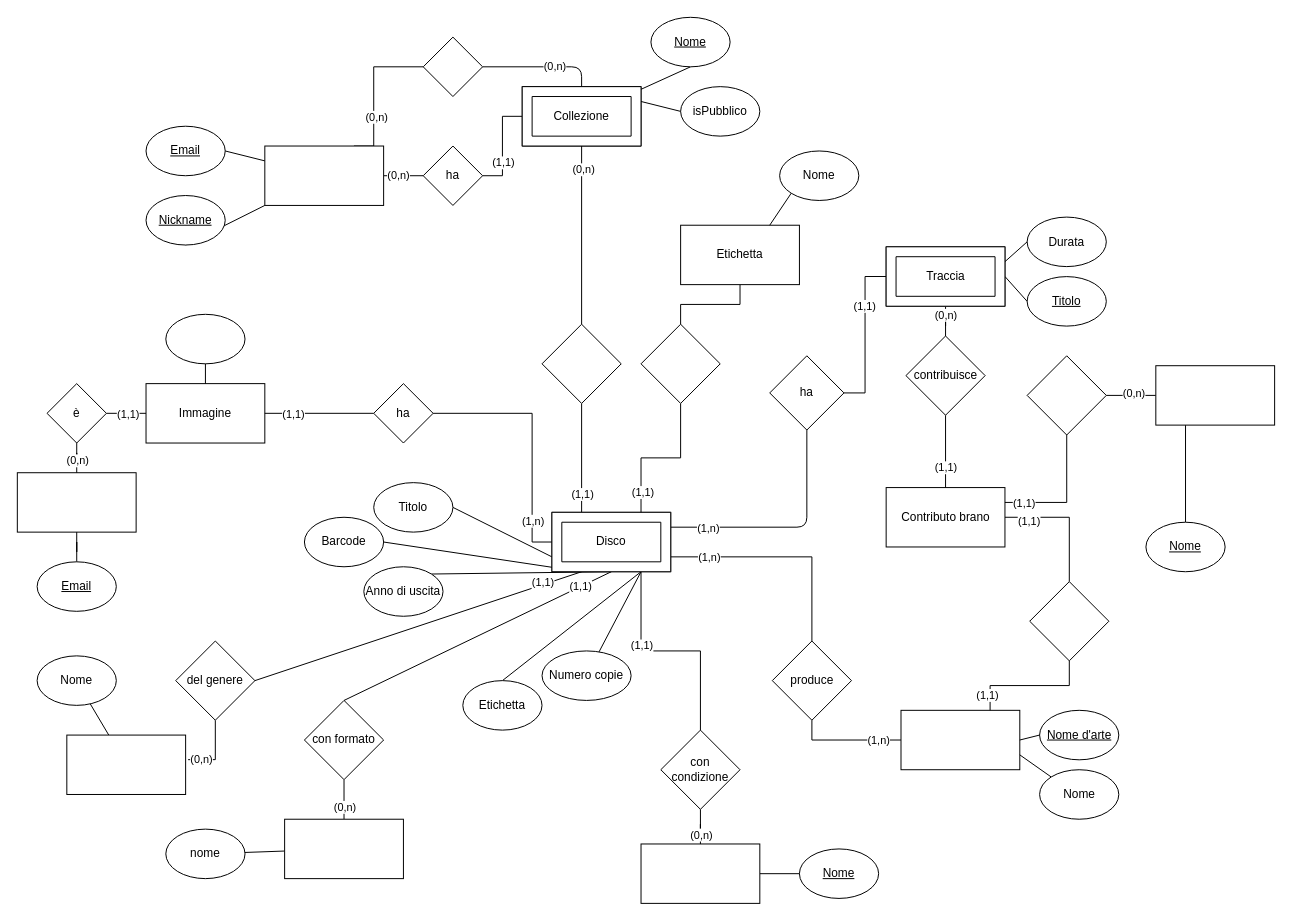
This 1292x921 diagram has some shape labels left out. Here are the shapes that lost their labels. From the top down, the box of each, then its label:
(422, 36, 483, 97): fa parte
(264, 145, 384, 205): Collezionista
(165, 313, 245, 364): File
(541, 323, 621, 403): contiene
(640, 323, 720, 403): distribuisce
(1026, 355, 1106, 435): tipo
(1155, 365, 1275, 425): Ruolo
(16, 472, 136, 532): Tipologia immagine
(1029, 581, 1109, 661): da parte
(900, 709, 1020, 770): Artista
(66, 734, 186, 794): Genere
(284, 818, 403, 879): Formato
(640, 843, 760, 903): Stato condizione
